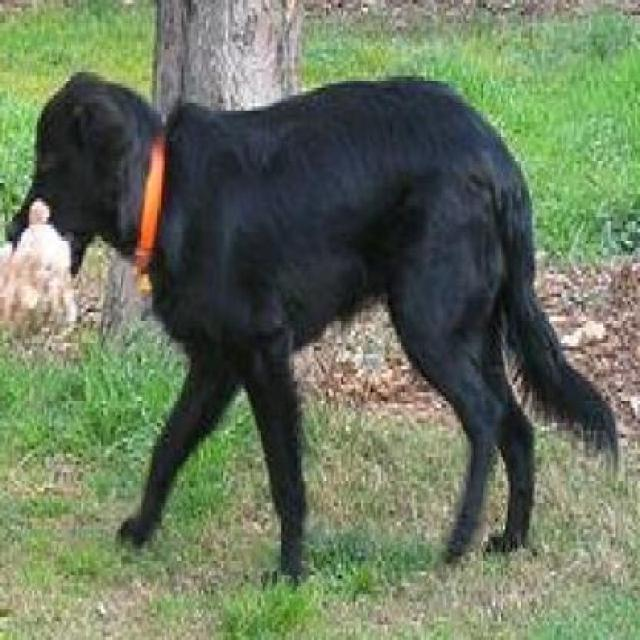Dog: (3, 58, 626, 600)
